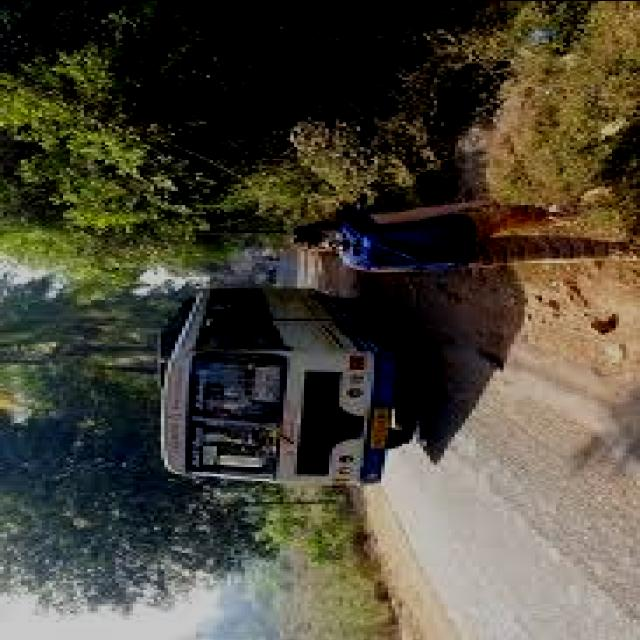bus: (131, 281, 453, 502)
